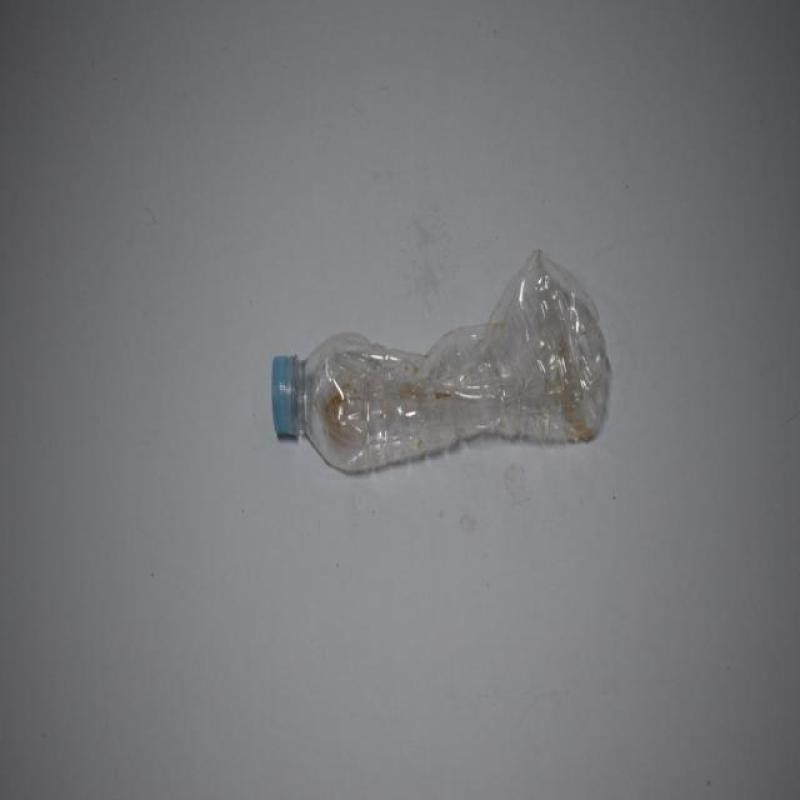botella: (272, 246, 612, 478)
